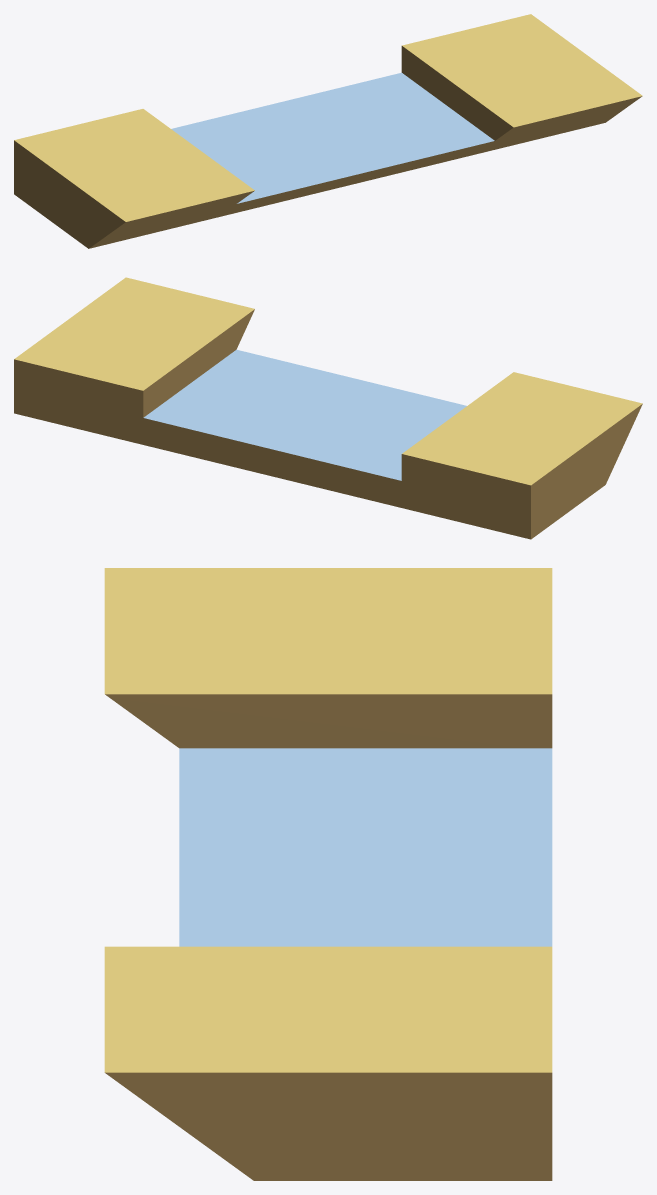
Rendered from Terrain_Modular_Tiles_Sand_Dirt_Cliff_Edge_River_Outer_03.fbx.
The picture shows the model from 3 angles, top to bottom: view 1: azimuth 30°, elevation 25°; view 2: azimuth 150°, elevation 25°; view 3: azimuth 270°, elevation 25°; orthographic projection. The views are drawn at different scales.
Parts seen in each view (by area): view 1: Terrain_Modular_Tiles_Sand_Dirt_Cliff_Edge_River_Outer_03; view 2: Terrain_Modular_Tiles_Sand_Dirt_Cliff_Edge_River_Outer_03; view 3: Terrain_Modular_Tiles_Sand_Dirt_Cliff_Edge_River_Outer_03.
Boxes of the visible parts, bbox=[...] form: Terrain_Modular_Tiles_Sand_Dirt_Cliff_Edge_River_Outer_03: bbox=[14, 14, 642, 248]; Terrain_Modular_Tiles_Sand_Dirt_Cliff_Edge_River_Outer_03: bbox=[14, 277, 642, 539]; Terrain_Modular_Tiles_Sand_Dirt_Cliff_Edge_River_Outer_03: bbox=[104, 568, 552, 1180].
Size of the model in its own units: 118 by 11.81 by 44.29.
